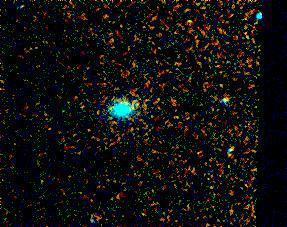star: (120, 84, 150, 114)
